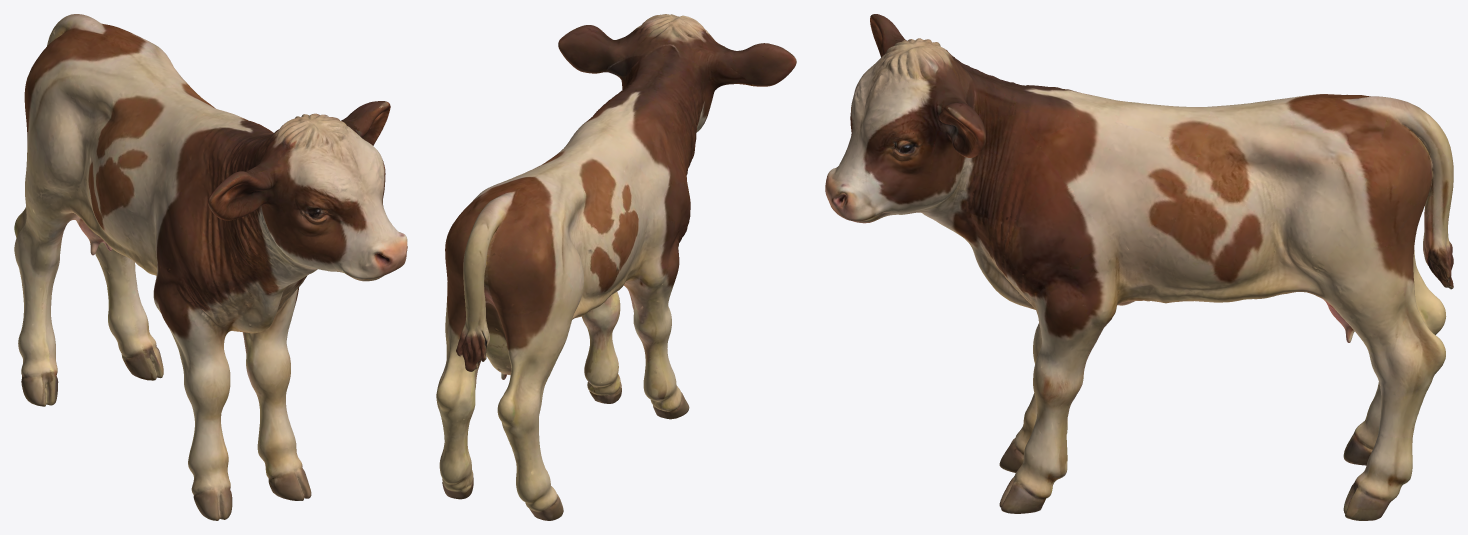
Rendered from calf.glb.
The picture shows the model from 3 angles, left to right: view 1: azimuth 30°, elevation 25°; view 2: azimuth 150°, elevation 25°; view 3: azimuth 270°, elevation 25°; orthographic projection. The views are drawn at different scales.
Size of the model in its own units: 0.8638 by 1.5 by 1.9.
1 material, 1 textured.
